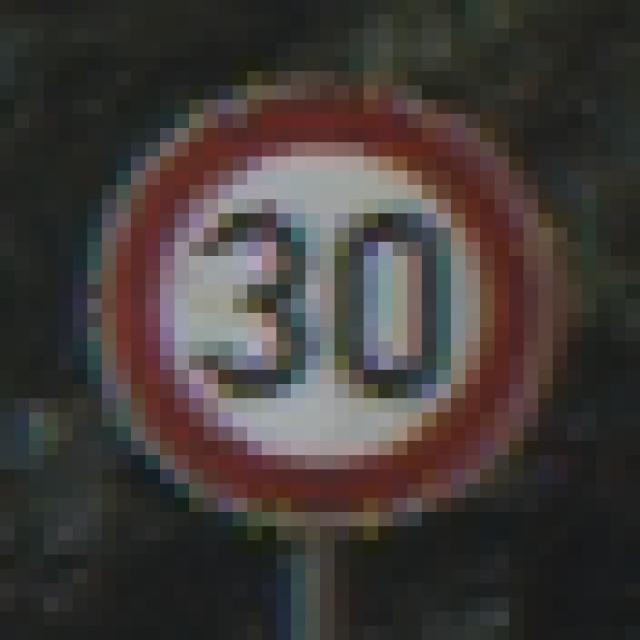Speed Limit -30-: (66, 78, 546, 562)
